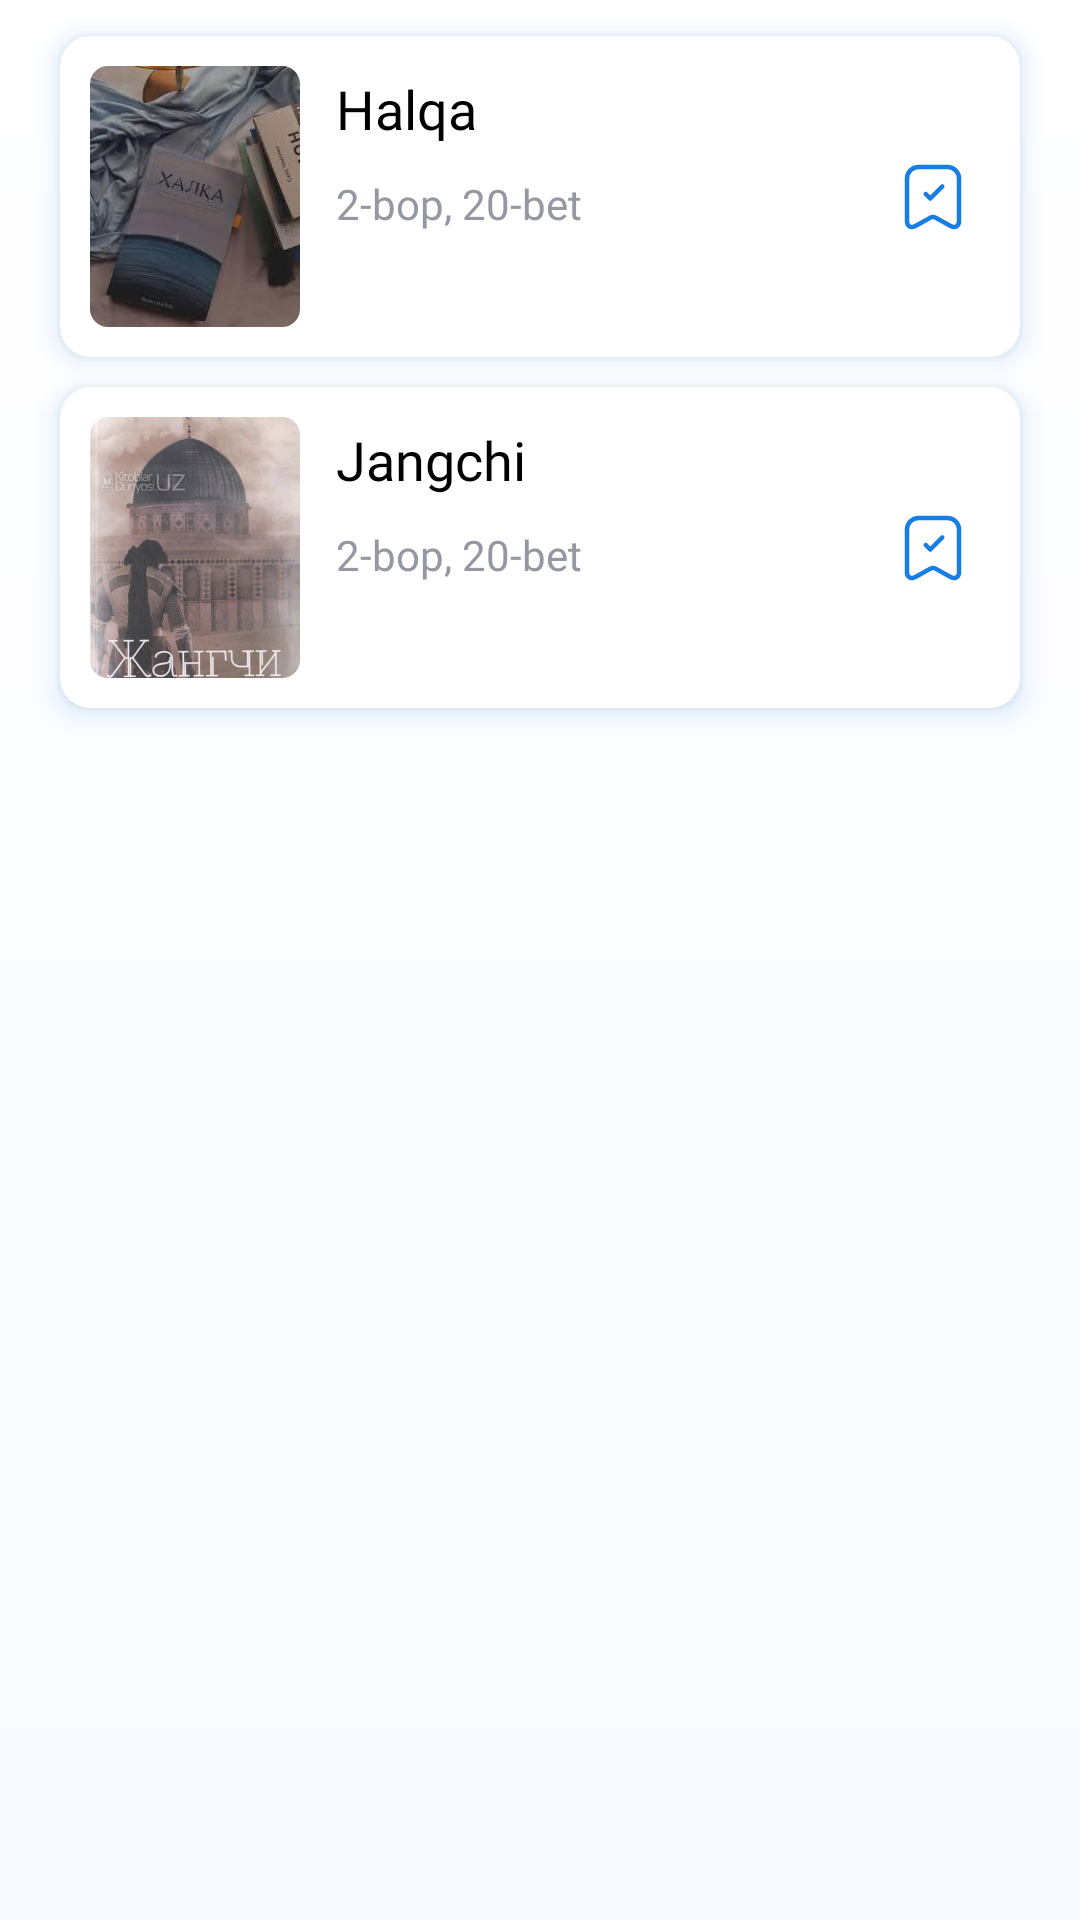

Icons on this 1080 × 1920 Android screen, each with its box as (x1, y1, x2, y2):
saved books: (904, 164, 962, 230), (904, 515, 962, 581)
